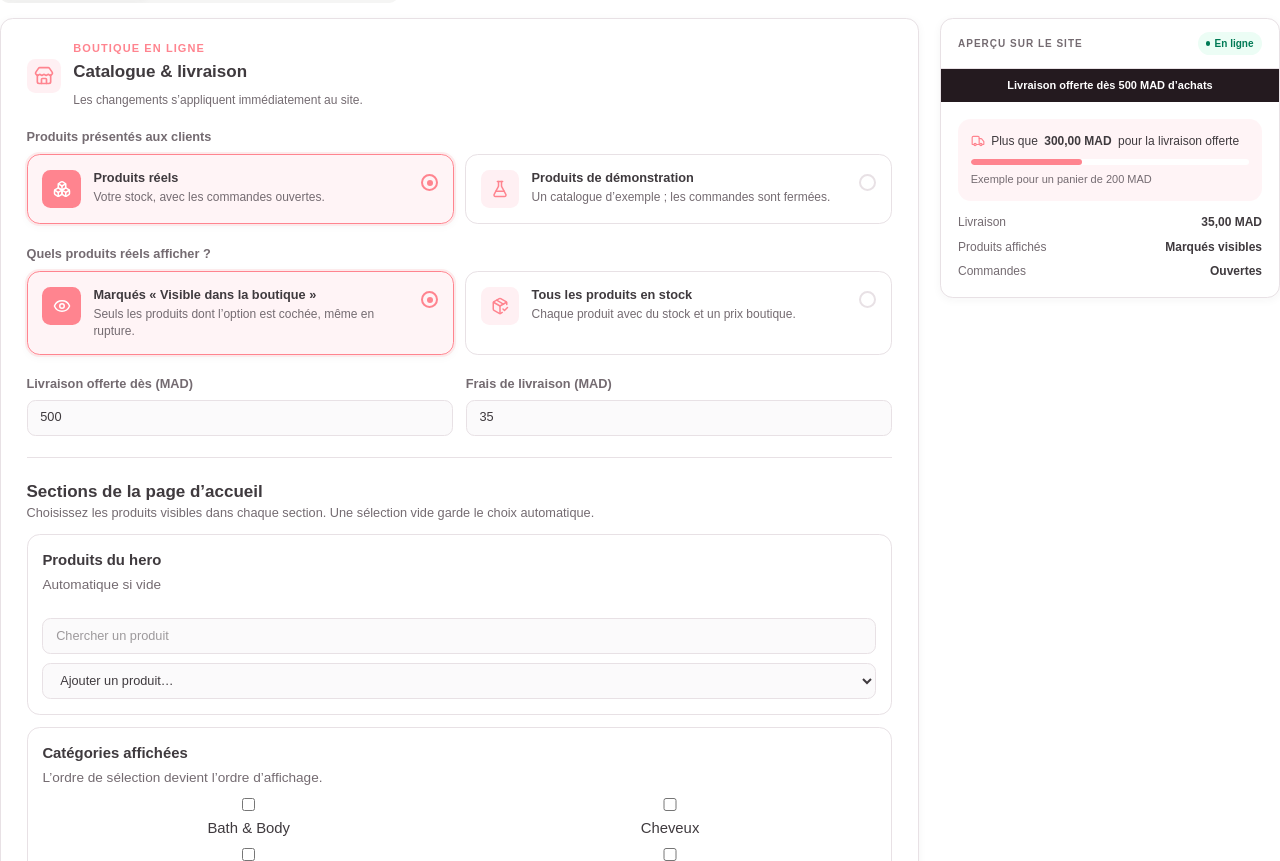
storefront settings › switches to every product in stock and saves the delivery amounts
The width and height of the screenshot is (1280, 861).
Check: the number field labelled "Livraison offerte dès (MAD)" is enabled, box [26, 400, 453, 436]
Check: the number field labelled "Livraison offerte dès (MAD)" holds "500", box [26, 400, 453, 436]
Click the radio button labelled "Tous les produits en stock" at (678, 313), box [465, 271, 892, 355]
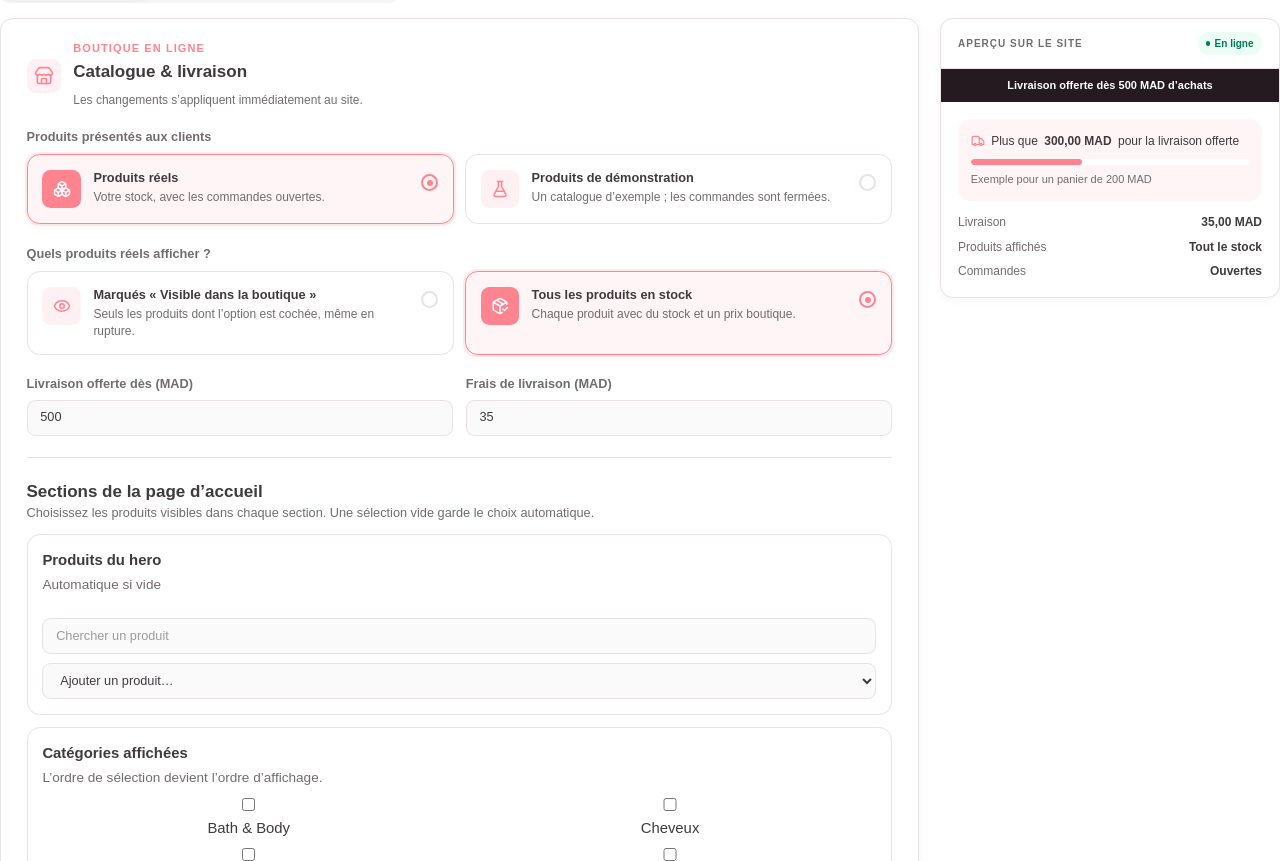
Replace the text in the number field labelled "Livraison offerte dès (MAD)" with "1000" at (240, 418), box [26, 400, 453, 436]
(page scrolled)
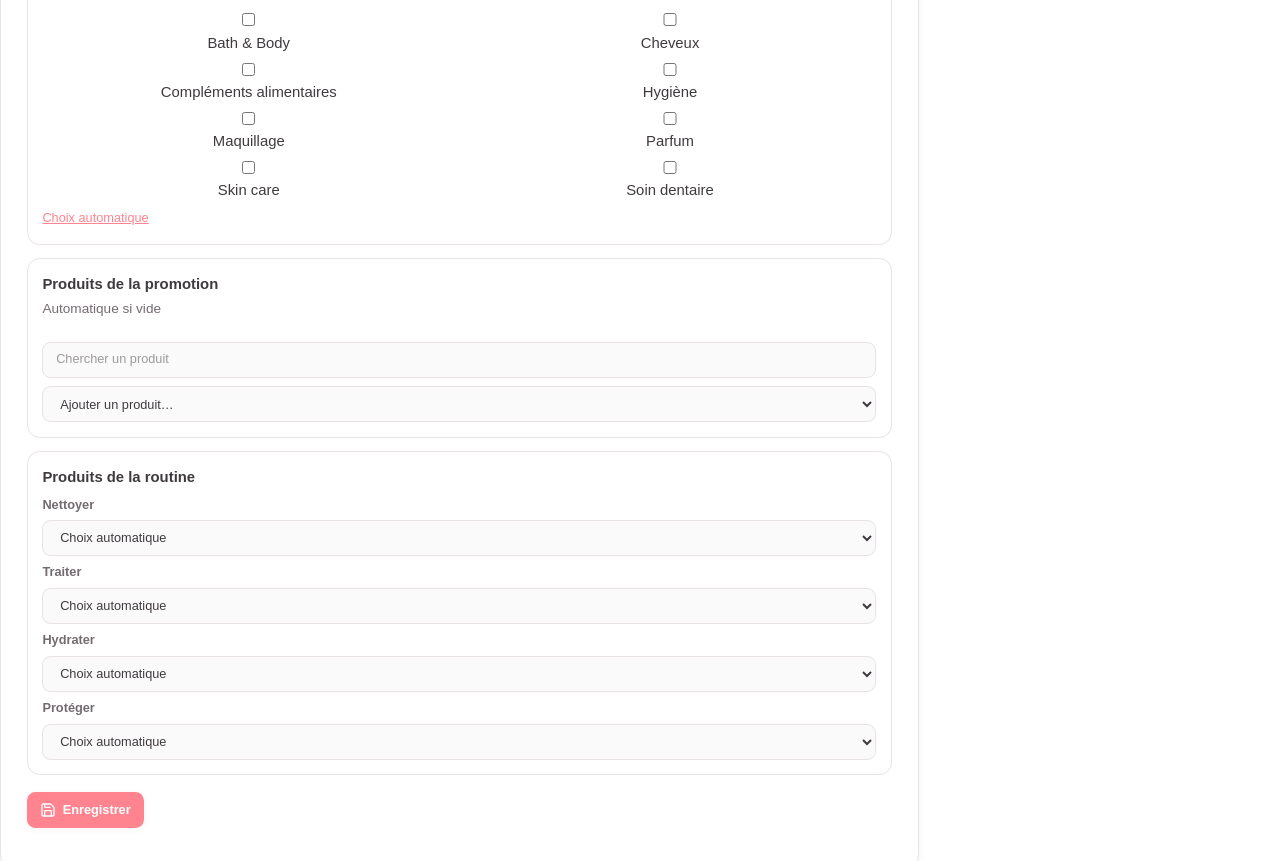
Click the button "Enregistrer" at (85, 810), box [26, 792, 144, 828]
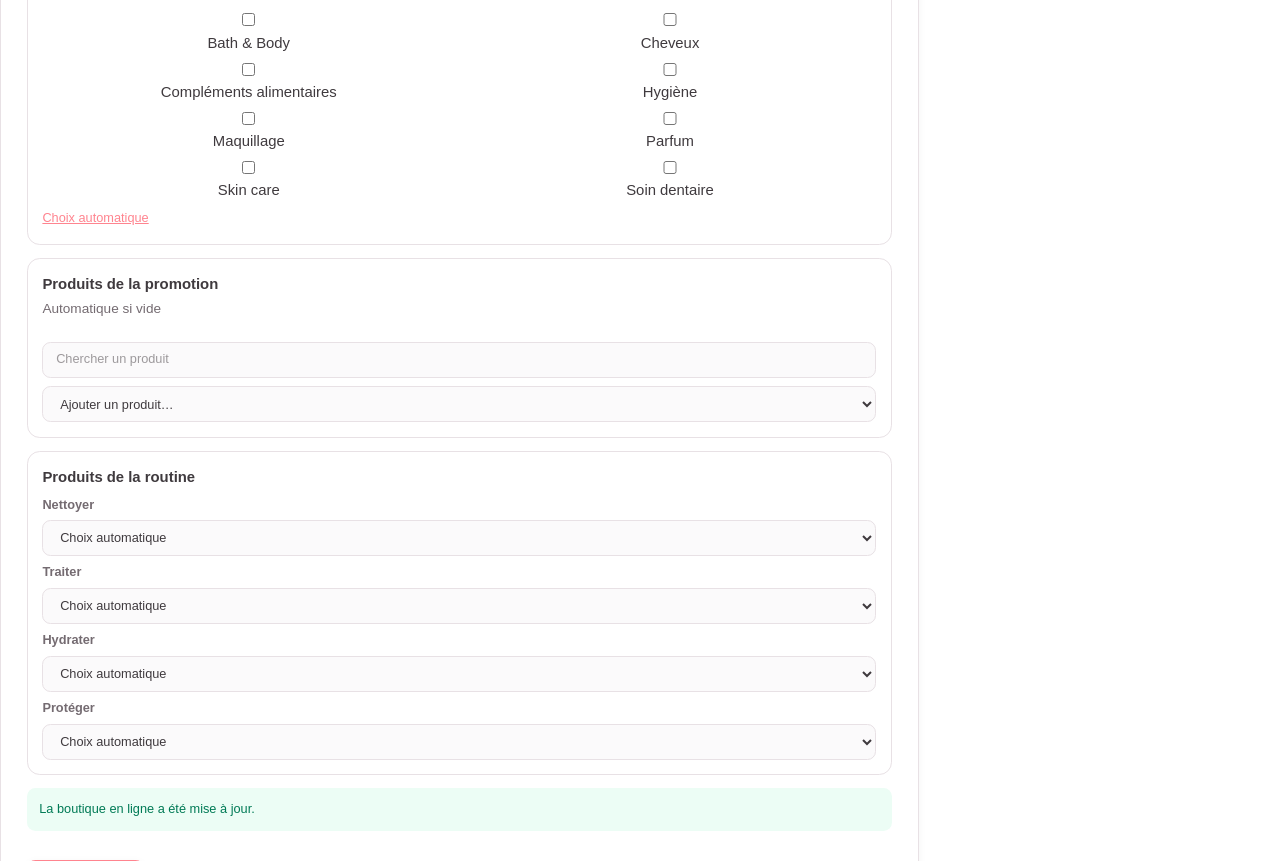
Check: the text "La boutique en ligne a été mise à jour." is shown, box [26, 788, 892, 831]
